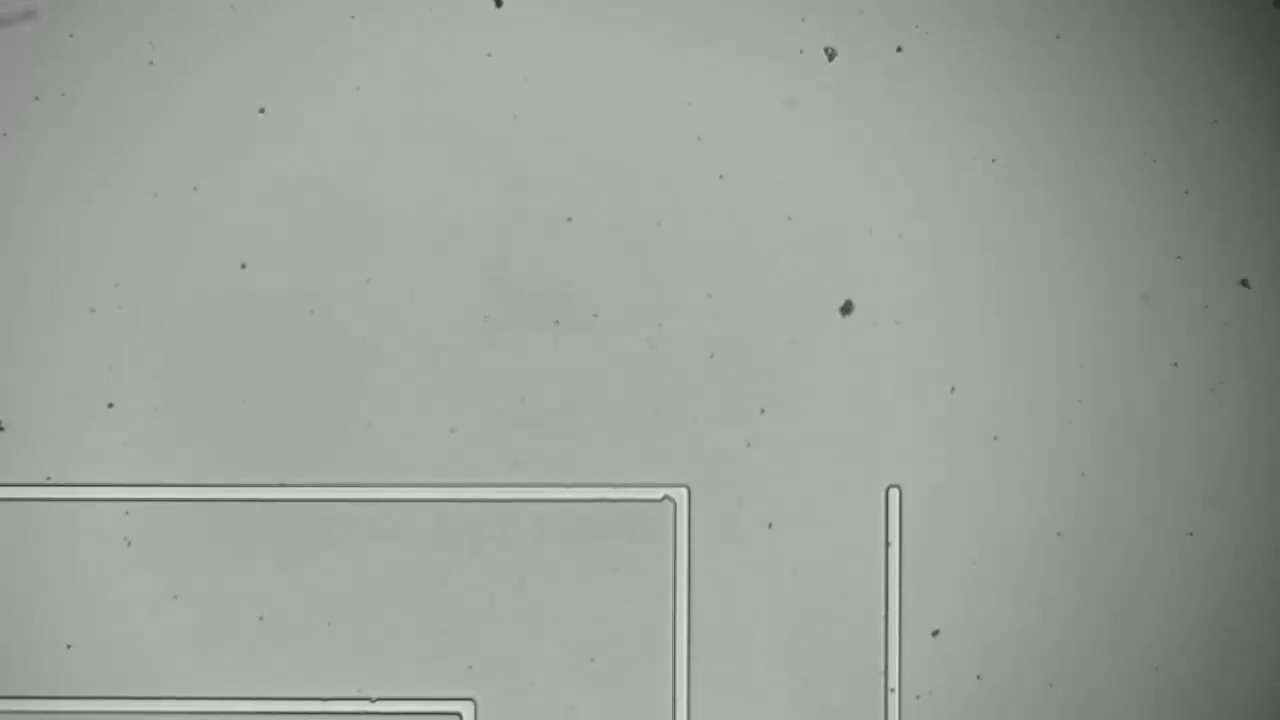edge_bite: (357, 689, 392, 714), (650, 477, 679, 506)
